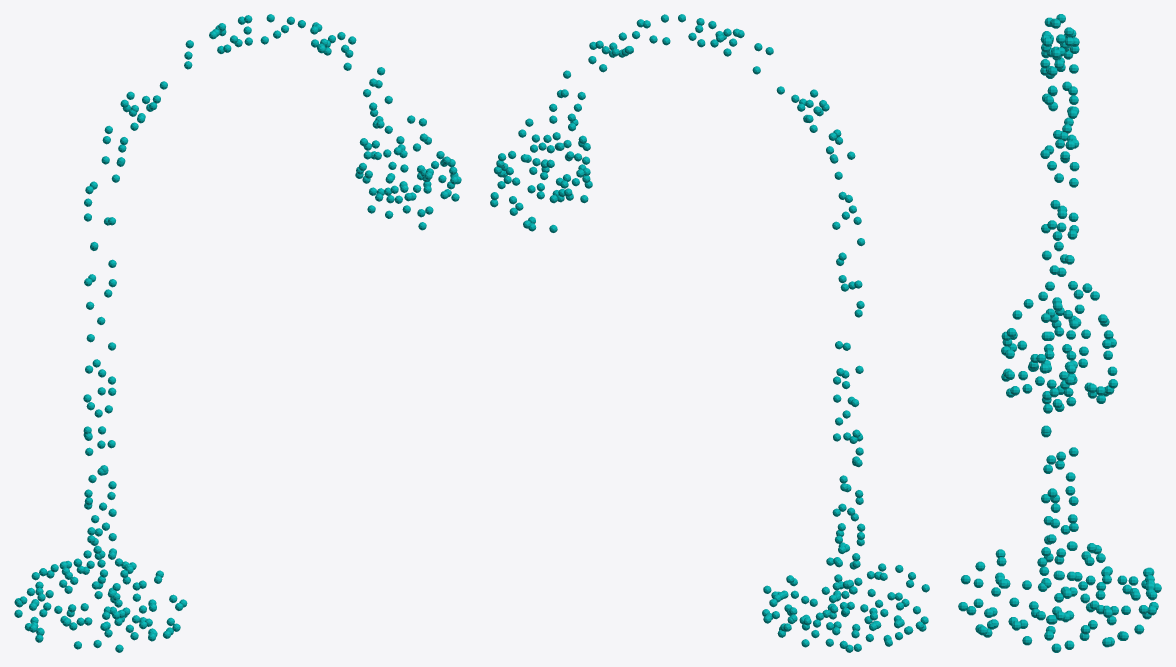
The picture shows the model from 3 angles, left to right: view 1: azimuth 30°, elevation 25°; view 2: azimuth 150°, elevation 25°; view 3: azimuth 270°, elevation 25°; orthographic projection. The views are drawn at different scales.
Size of the model in its own units: 0.8095 by 1.03 by 0.2843.
